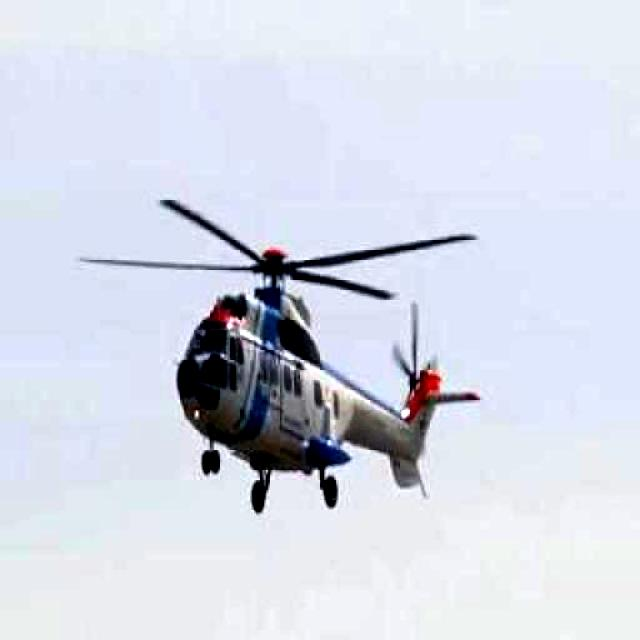drone: (45, 176, 519, 530)
